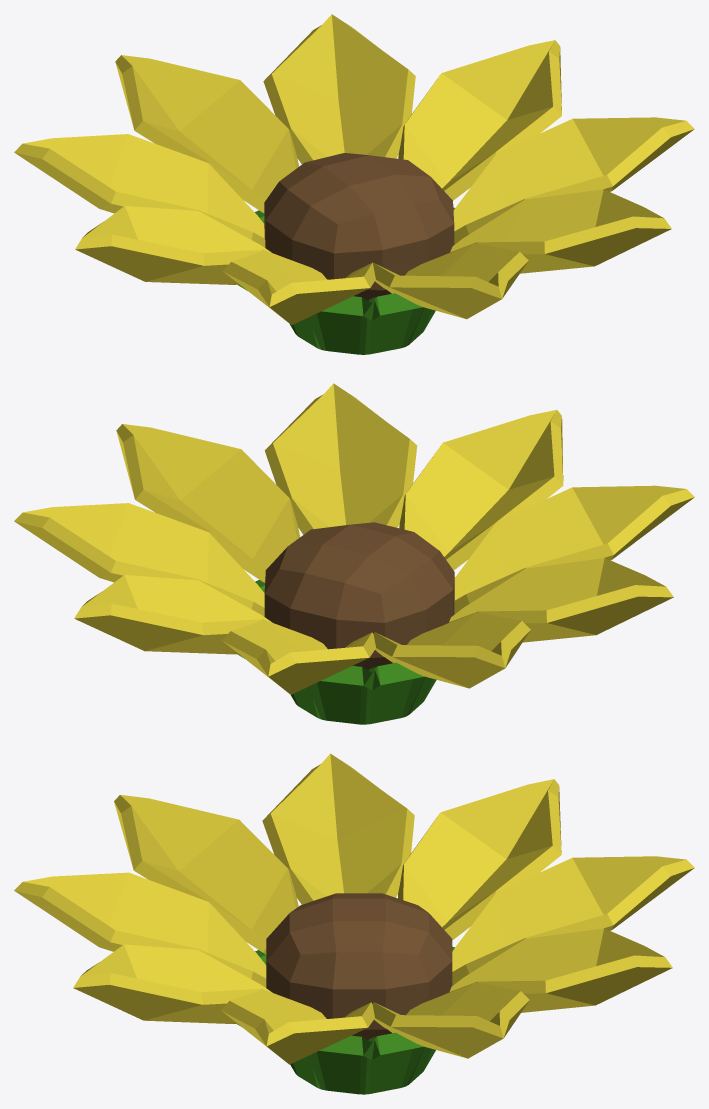
Rendered from sunflower.glb.
3 views of the same model, one above another, from view 1: azimuth 30°, elevation 25°; view 2: azimuth 150°, elevation 25°; view 3: azimuth 270°, elevation 25° (orthographic).
Visible parts, largest first — view 1: Roundcube.007; view 2: Roundcube.007; view 3: Roundcube.007.
Part boxes in pixels (x1,y1,x2,y2): Roundcube.007: (14,14,694,354); Roundcube.007: (14,383,694,724); Roundcube.007: (14,753,694,1094).
Bounding box in the file's own units: 1.3 × 0.3618 × 1.3.
